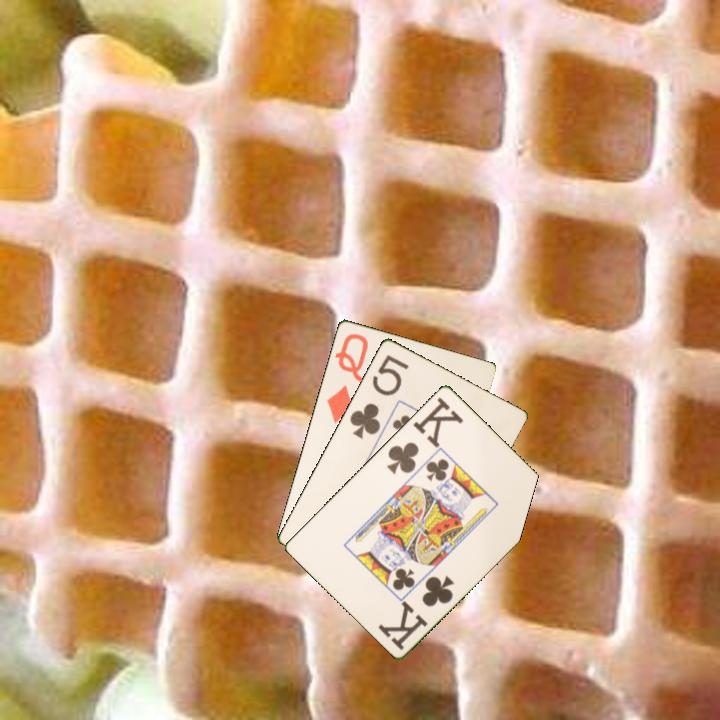5c: (346, 351, 412, 442)
Kc: (383, 393, 466, 477), (375, 571, 457, 653)
Qd: (322, 330, 371, 426)
